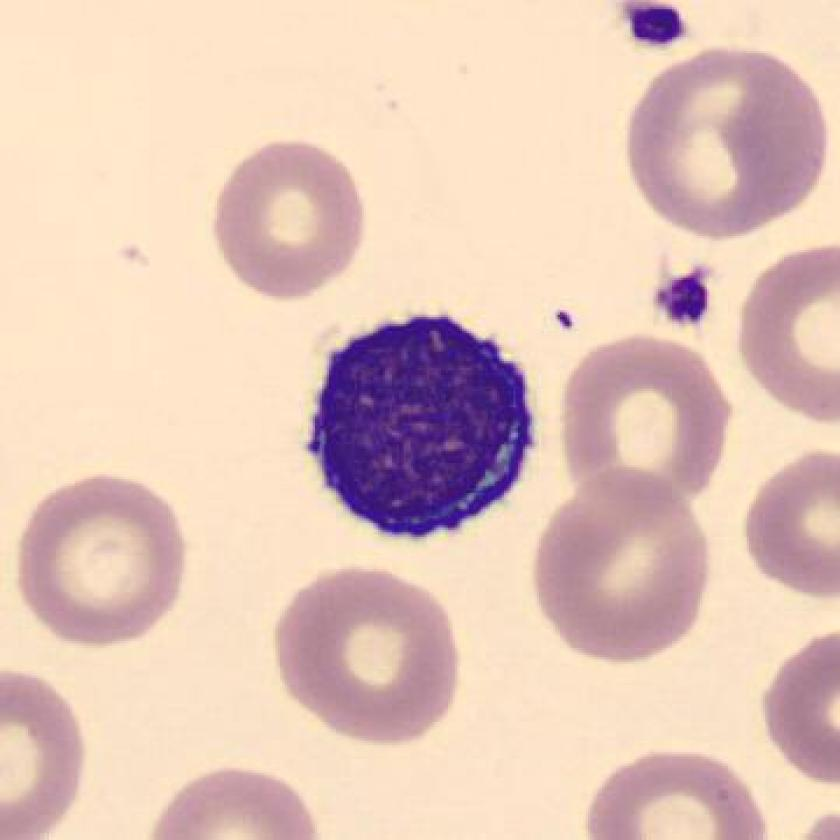lymphocyte: (291, 300, 550, 557)
